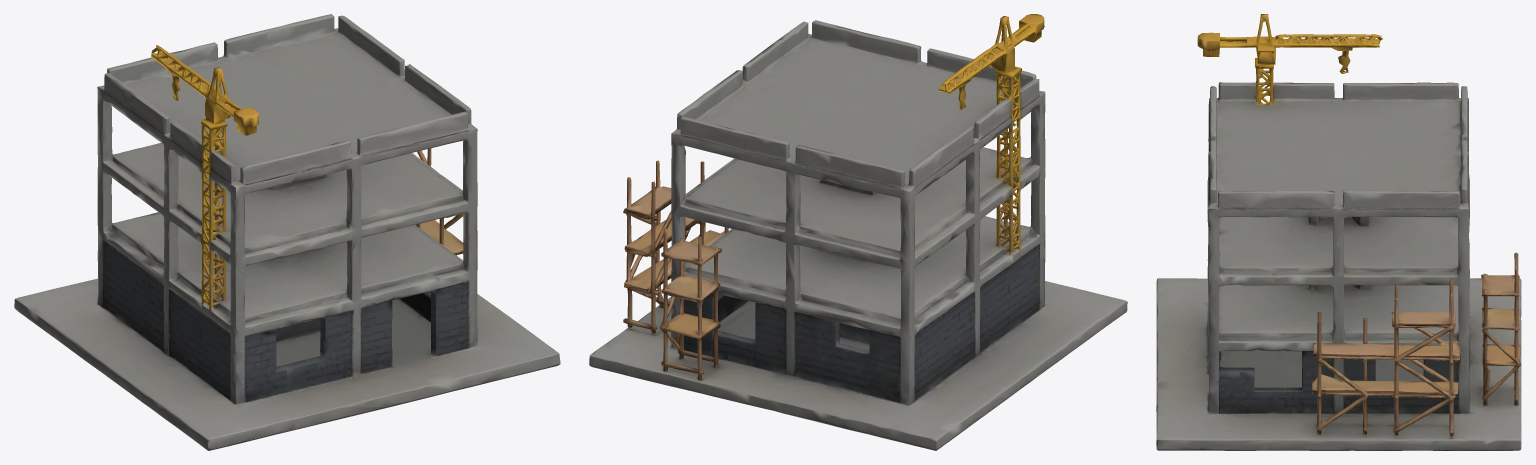
Rendered from building-frame.glb.
The picture shows the model from 3 angles, left to right: view 1: azimuth 30°, elevation 25°; view 2: azimuth 150°, elevation 25°; view 3: azimuth 270°, elevation 25°; orthographic projection. The views are drawn at different scales.
Parts seen in each view (by area): view 1: tripo_node_a2a4f78e-c9d0-4f22-9bbf-c1625cf6a4e8; view 2: tripo_node_a2a4f78e-c9d0-4f22-9bbf-c1625cf6a4e8; view 3: tripo_node_a2a4f78e-c9d0-4f22-9bbf-c1625cf6a4e8.
Part boxes in pixels (x1,y1,x2,y2): tripo_node_a2a4f78e-c9d0-4f22-9bbf-c1625cf6a4e8: (14,14,560,450); tripo_node_a2a4f78e-c9d0-4f22-9bbf-c1625cf6a4e8: (589,14,1127,450); tripo_node_a2a4f78e-c9d0-4f22-9bbf-c1625cf6a4e8: (1156,14,1521,450).
Size of the model in its own units: 1 by 0.8804 by 0.947.
1 material, 1 textured.
